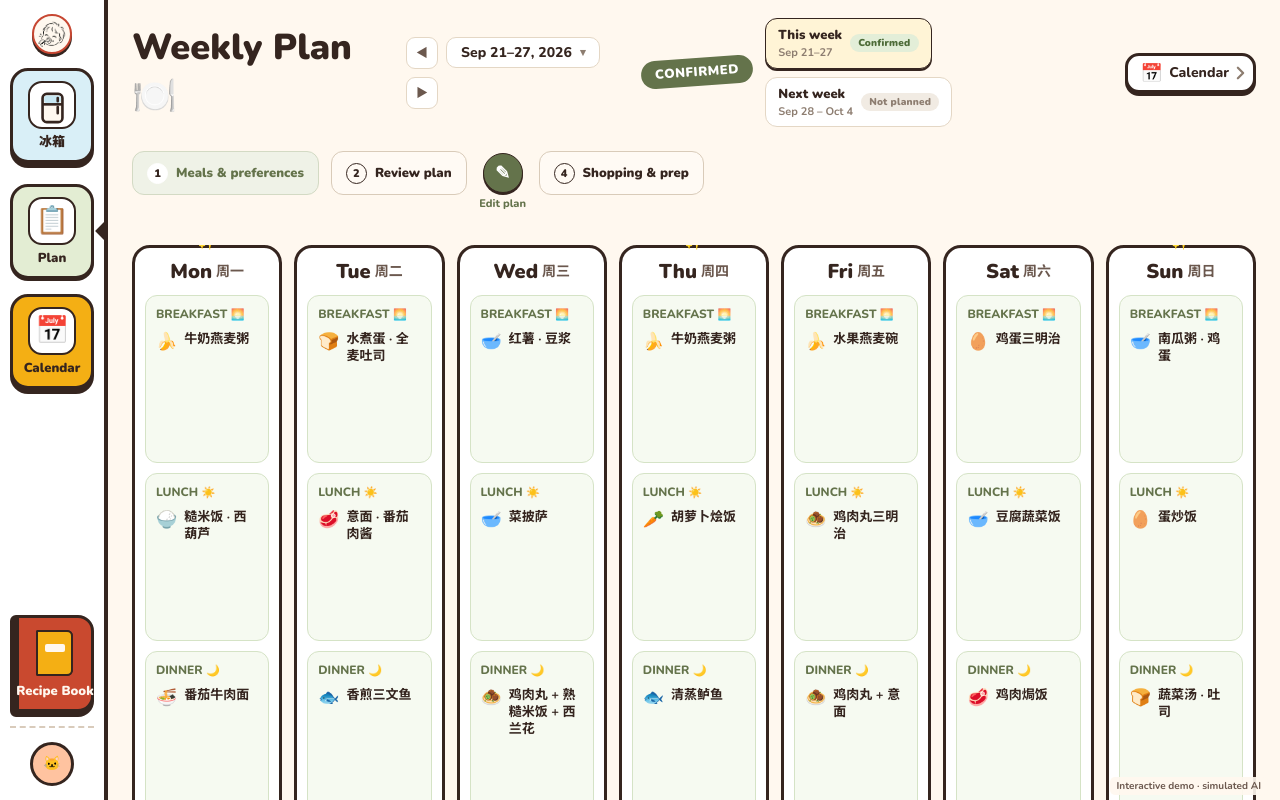
Test case: while the week is being edited › the calendar shows the confirmed version, where meals can still be marked
This screenshot has width=1280, height=800.
Click the button named "Edit plan".
click(503, 173)  # box [483,153,523,193]
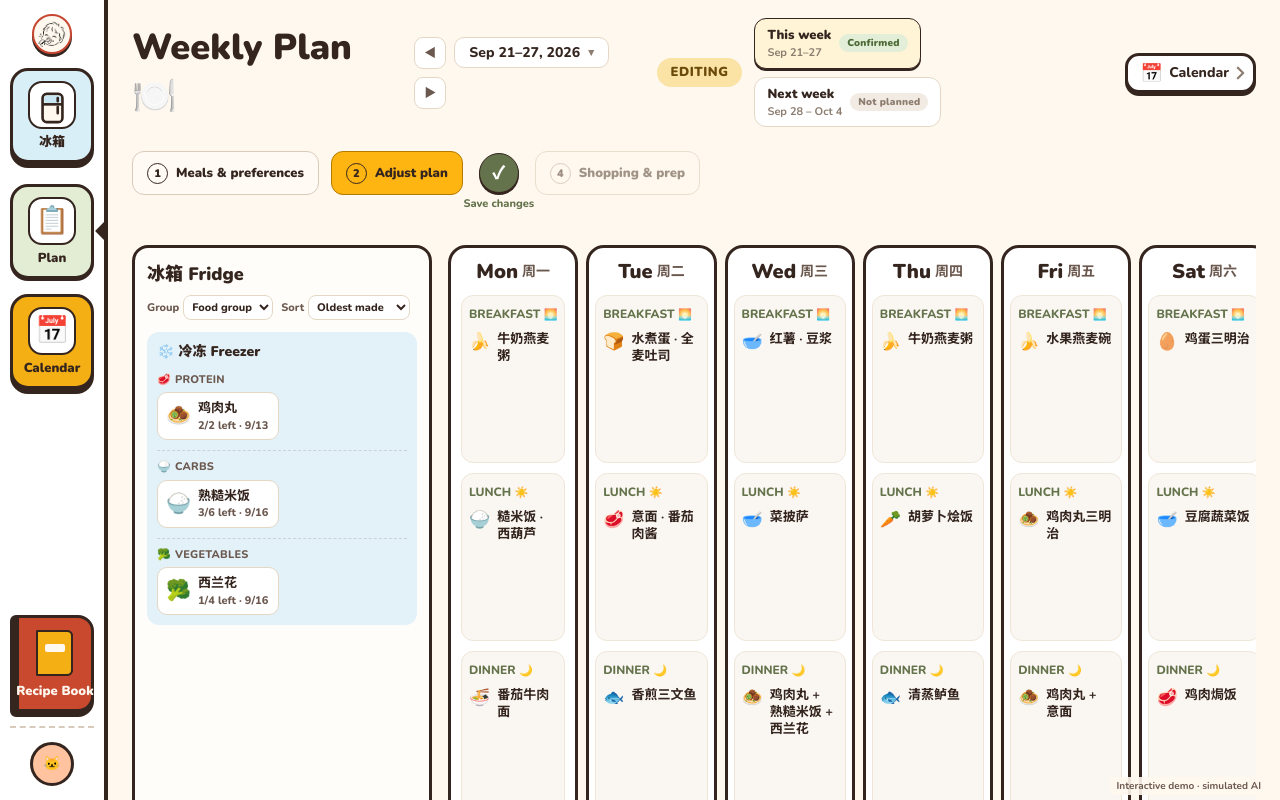
Click the button "Calendar".
click(52, 341)  # box [10,294,94,389]
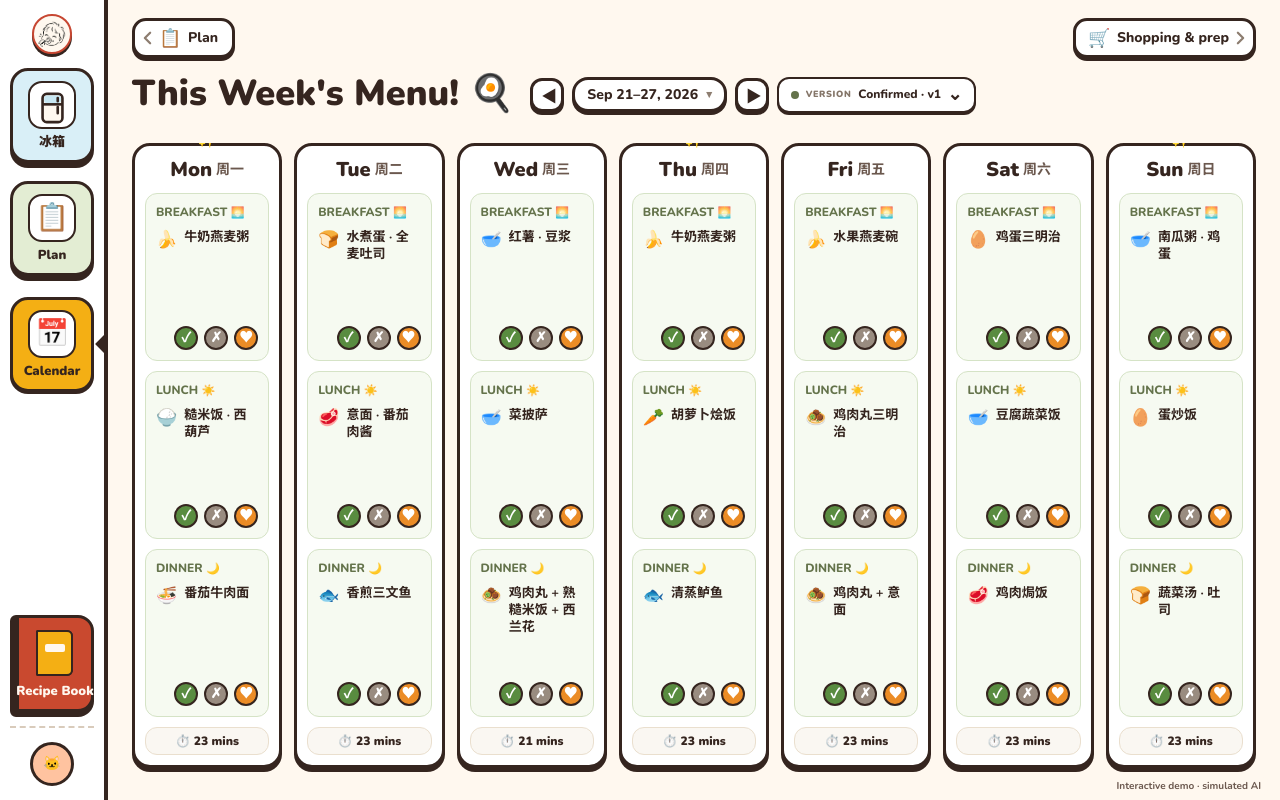
Expected: the button named "Mark Mon, Sep 21 lunch completed" is enabled, [174,504,198,528]
Expected: the text "Draft" is gone
